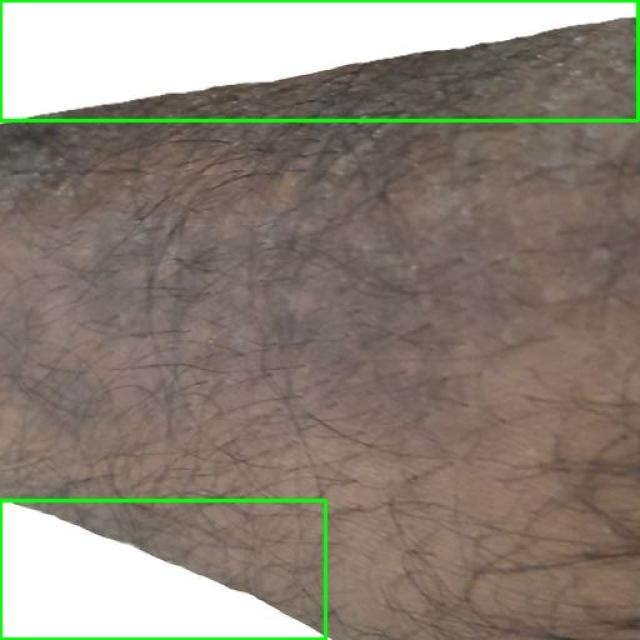Contact Dermatitis: (0, 0, 639, 121), (0, 500, 325, 639)
